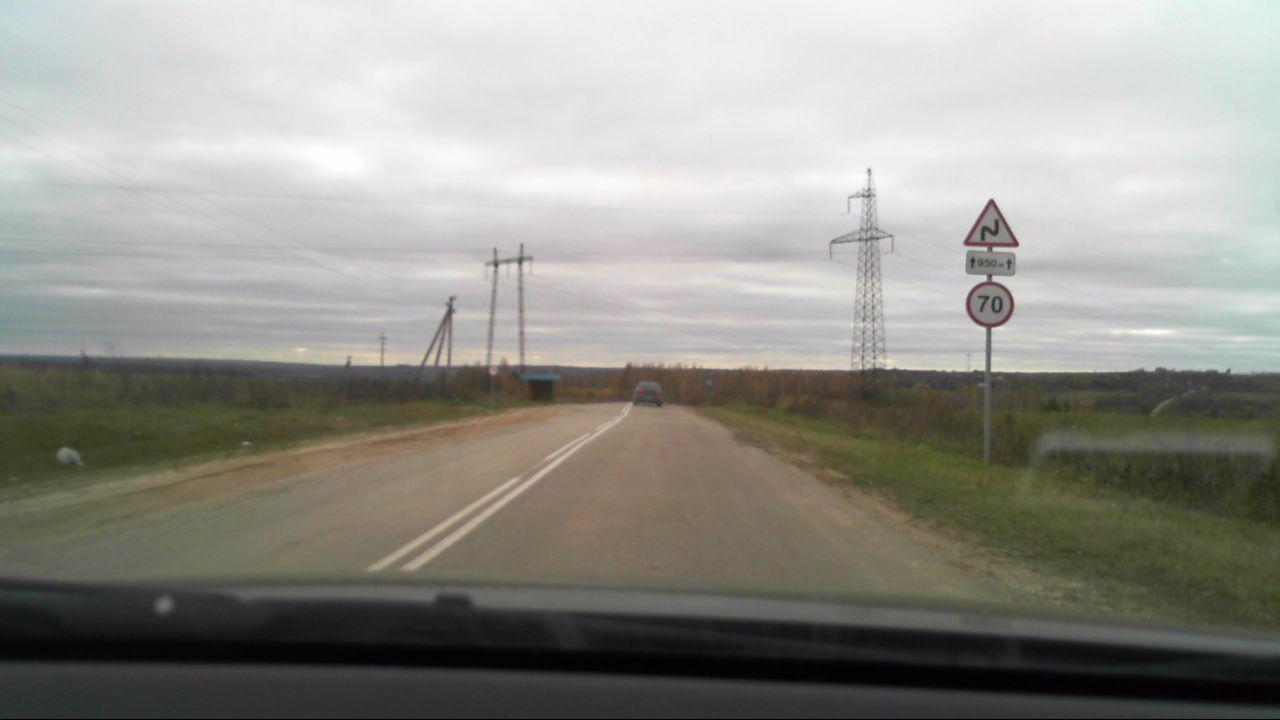1_12_1: (965, 197, 1019, 246)
3_24: (966, 281, 1016, 327)
8_2_1: (963, 250, 1018, 281)
